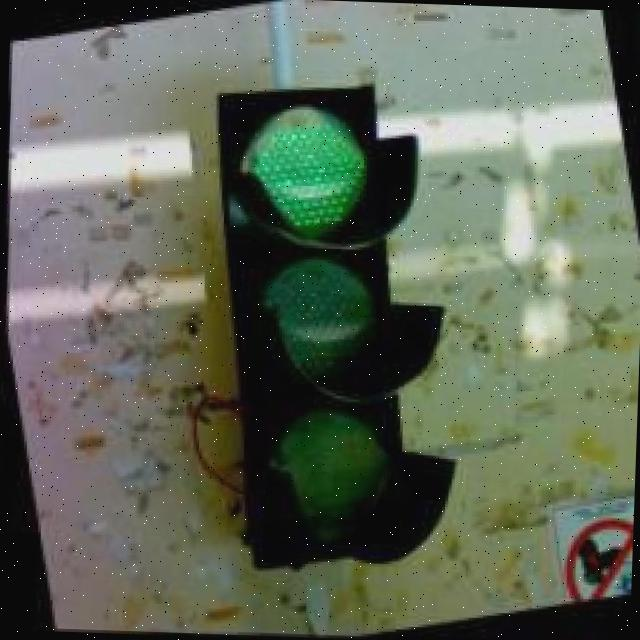green_light: (157, 65, 497, 589)
